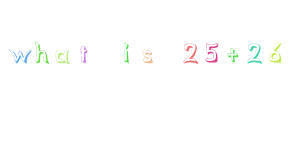+: (225, 47, 240, 64)
2: (245, 41, 264, 64), (181, 41, 199, 65)
5: (204, 42, 220, 64)
6: (267, 41, 283, 63)
a: (54, 47, 70, 64)
h: (34, 41, 50, 64)
i: (119, 41, 134, 64)
s: (141, 48, 153, 65)
t: (77, 44, 89, 64)
w: (9, 48, 32, 64)
